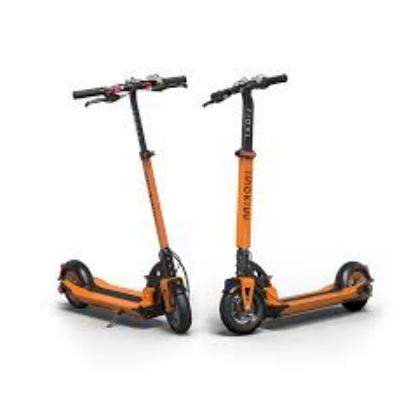bike: (211, 75, 374, 335), (56, 78, 193, 335)
